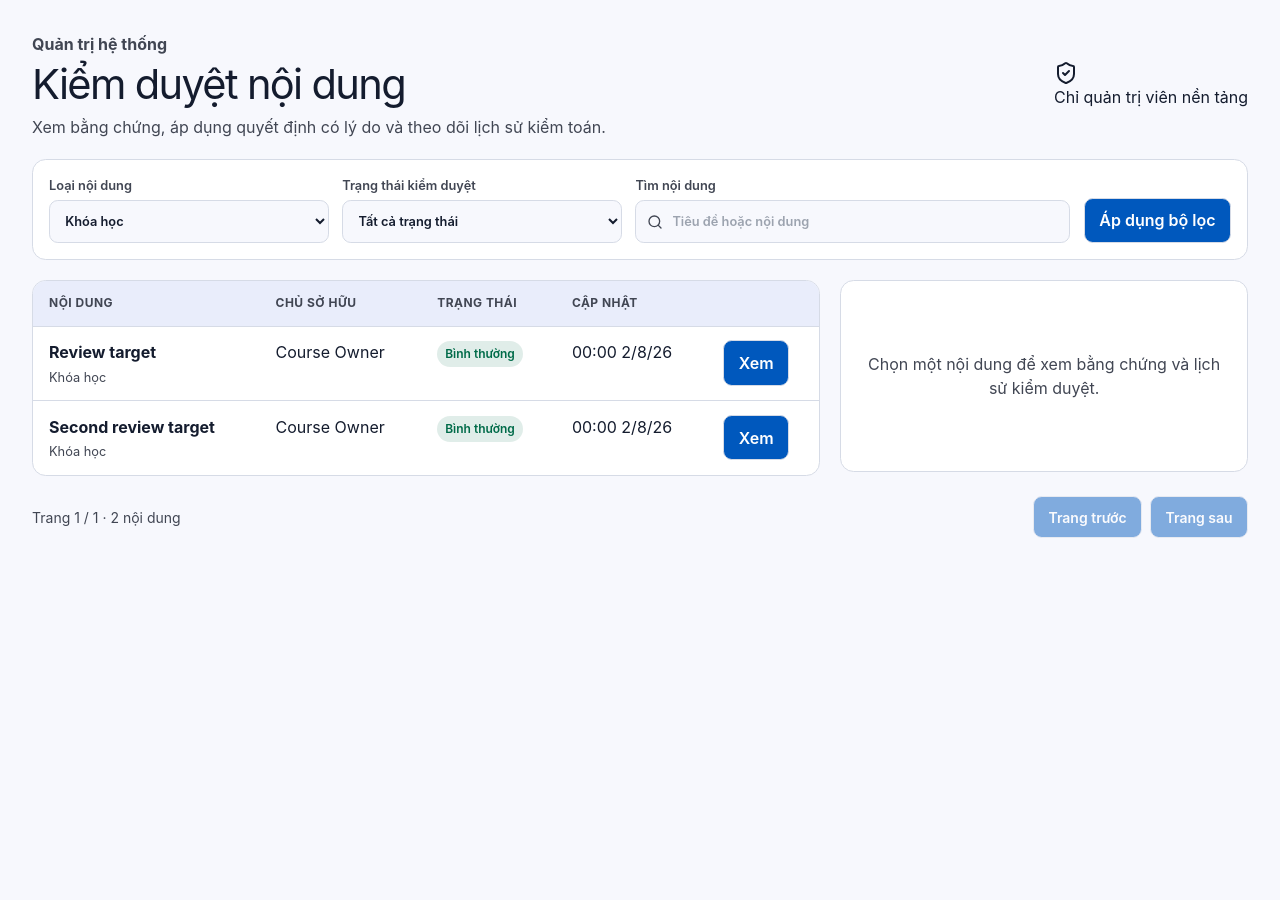
Test: AdminModerationPage › keeps the newest target selected when detail responses arrive out of order
Click the button with aria-label "Xem Review target".
click(756, 363)  # box 723,340 -> 789,386
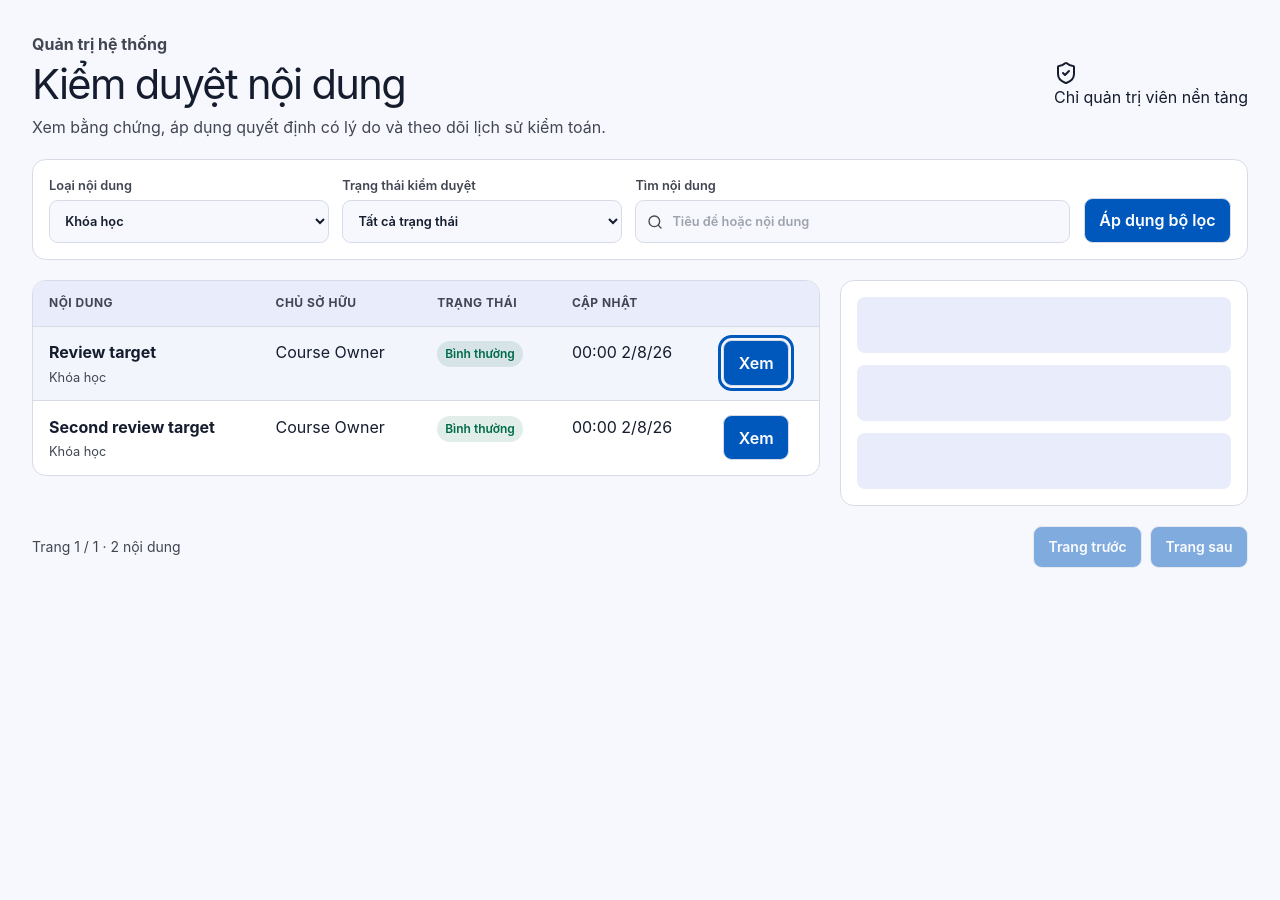
Click the button with aria-label "Xem Second review target".
click(756, 438)  # box 723,415 -> 789,460
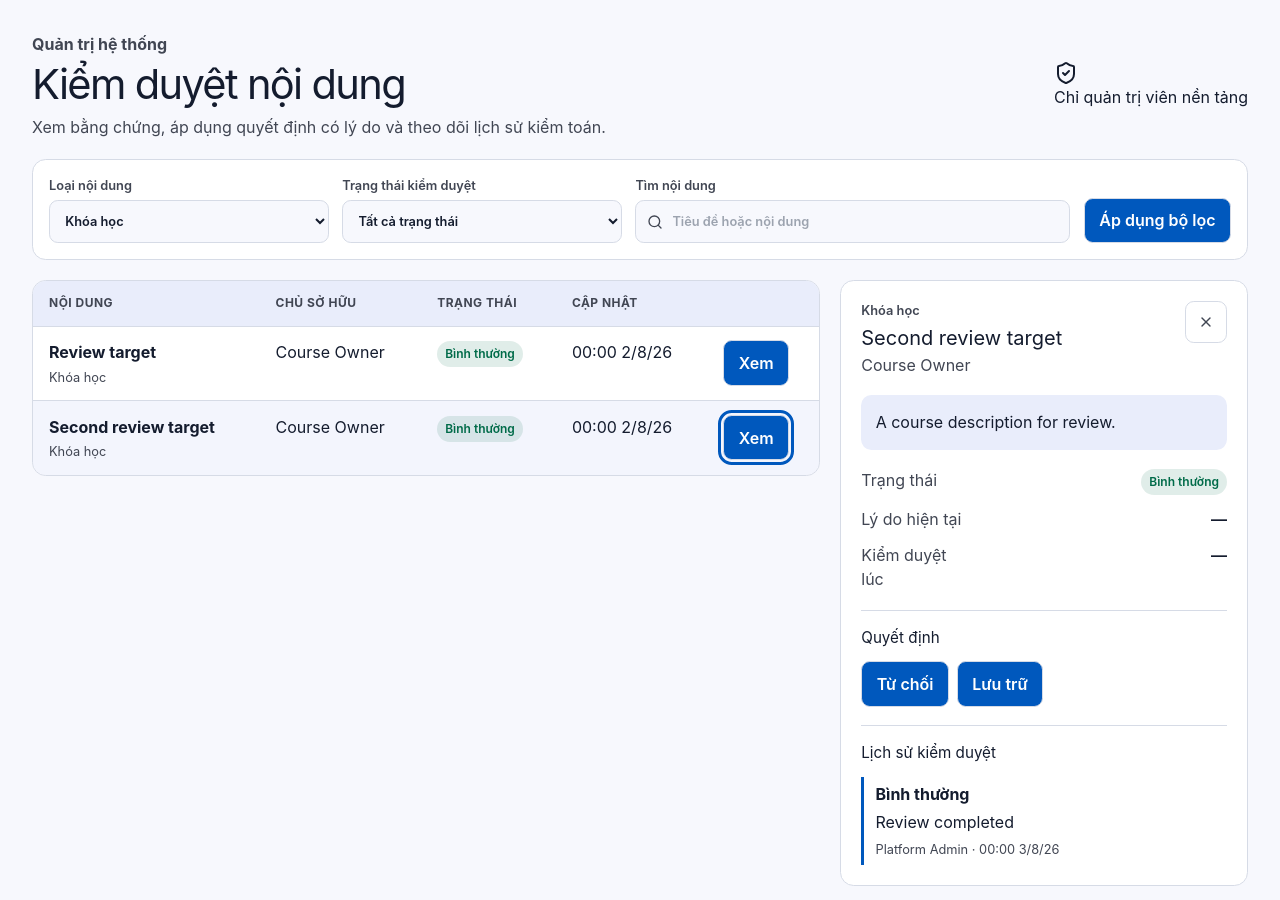
Check: the heading "Second review target" is shown, box 861,323 -> 1062,353
